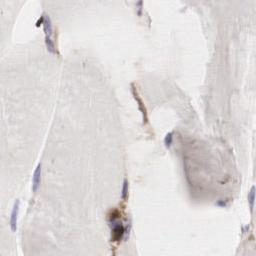nucleus: (10, 198, 20, 233), (31, 162, 42, 192), (247, 185, 256, 214), (42, 13, 51, 35), (121, 178, 129, 198), (164, 132, 173, 149), (125, 220, 132, 241), (45, 38, 54, 52), (107, 221, 118, 226), (216, 200, 225, 206), (137, 10, 142, 16), (138, 1, 143, 6)
positive_cell: (111, 215, 131, 244), (46, 29, 58, 55), (106, 208, 122, 225)
